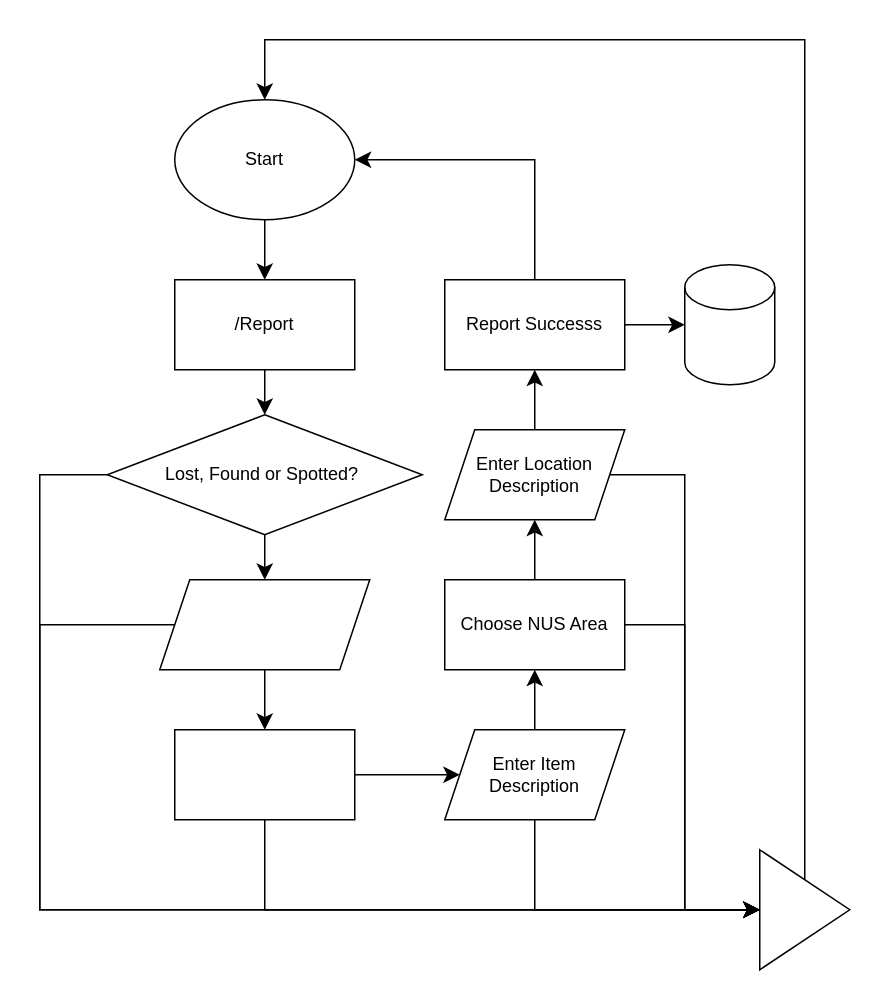
The diagram is 876 pixels wide and 996 high, and some of its shapes have lost their labels. Here are the shapes that lost their labels. From the top down, the box of each, then its label:
(683, 263, 775, 385): Firebase DB
(158, 578, 370, 670): Enter Item Name
(173, 728, 355, 820): Choose Category
(758, 848, 850, 970): /cancel
